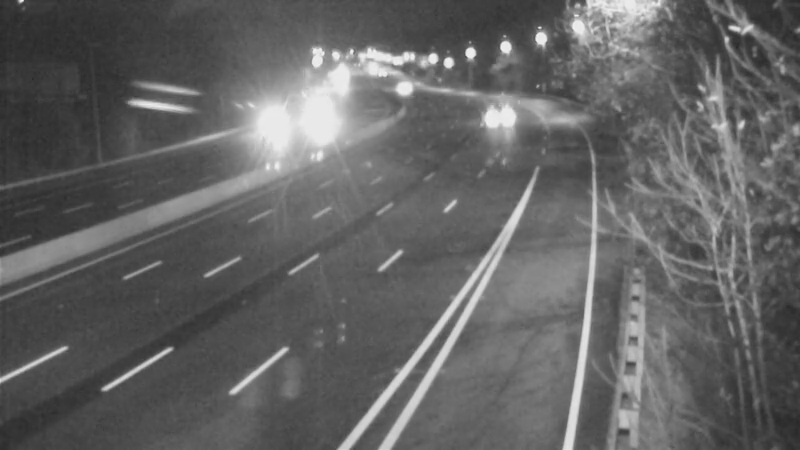vehicle: (377, 62, 427, 112), (472, 100, 522, 150), (248, 104, 298, 154), (293, 90, 343, 140)
